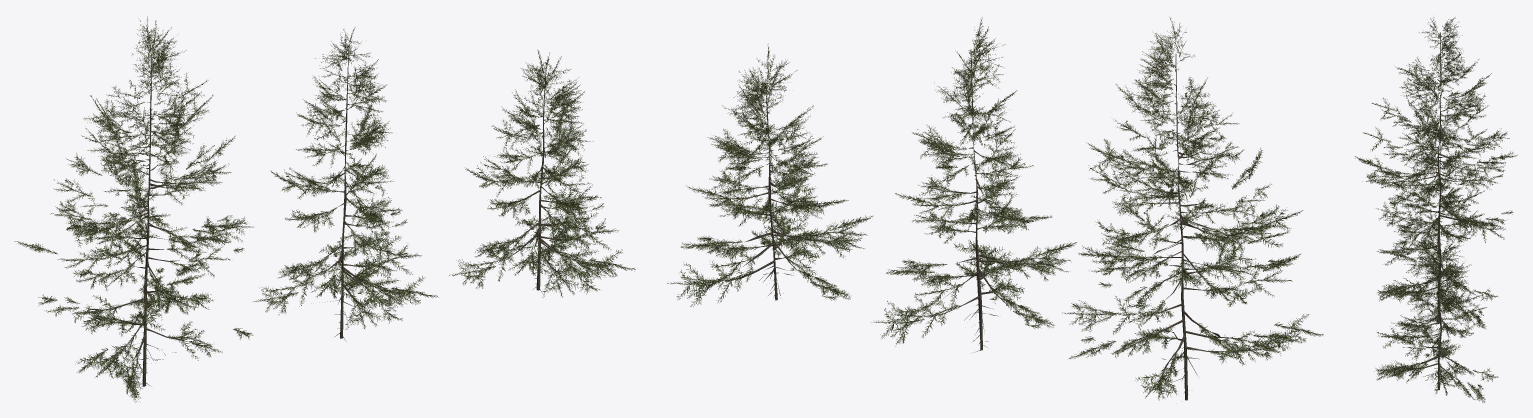
File: fir_sapling_medium.glb
The picture shows the model from 3 angles, left to right: view 1: azimuth 30°, elevation 25°; view 2: azimuth 150°, elevation 25°; view 3: azimuth 270°, elevation 25°; orthographic projection. The views are drawn at different scales.
Parts seen in each view (by area): view 1: fir_sapling_medium_a_LOD0; view 2: fir_sapling_medium_a_LOD0; view 3: fir_sapling_medium_a_LOD0.
Part boxes in pixels (x1,y1,x2,y2): fir_sapling_medium_a_LOD0: (14,16,635,402); fir_sapling_medium_a_LOD0: (667,17,1323,400); fir_sapling_medium_a_LOD0: (1355,17,1517,402).
Size of the model in its own units: 14.77 by 8.85 by 5.26.
Materials: 3 (3 with a texture image).
